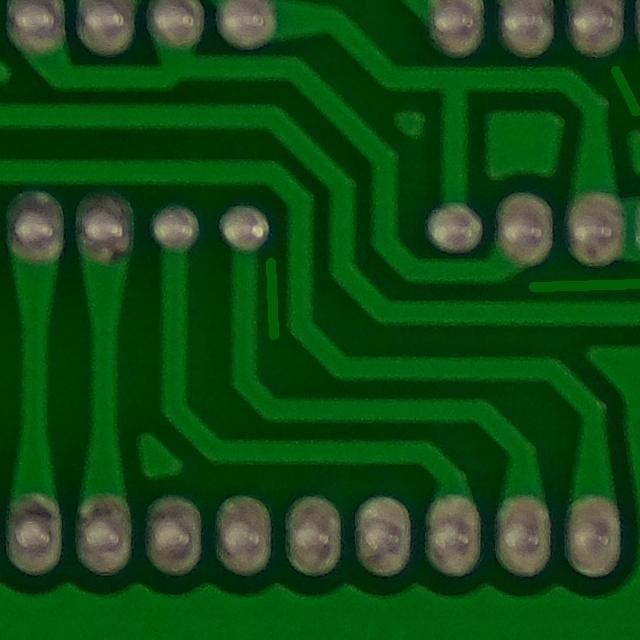spurious_copper: (505, 251, 640, 317), (250, 237, 298, 354), (595, 44, 640, 129)
